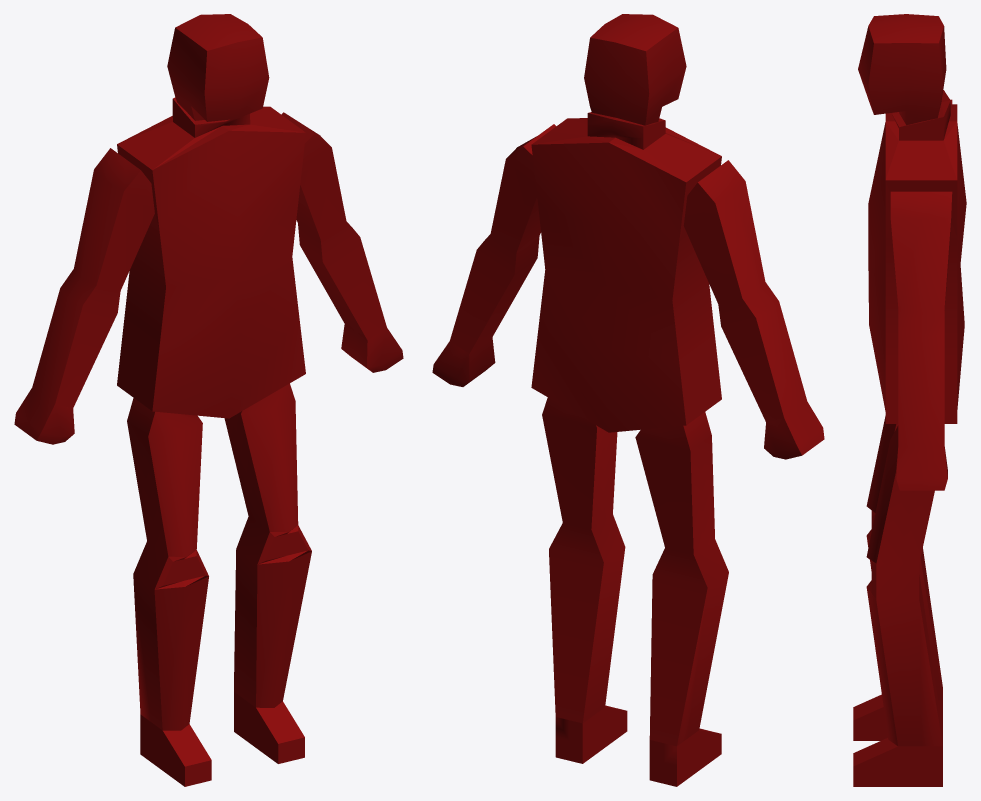
File: Character_NO_ANIMATION.obj
The picture shows the model from 3 angles, left to right: view 1: azimuth 30°, elevation 25°; view 2: azimuth 150°, elevation 25°; view 3: azimuth 270°, elevation 25°; orthographic projection.
Parts seen in each view (by area): view 1: Box010; view 2: Box010; view 3: Box010.
Boxes of the visible parts, box(x1,y1,x2,y2) form: Box010: box(14, 14, 403, 786); Box010: box(432, 14, 824, 786); Box010: box(853, 14, 966, 786).
Size of the model in its own units: 12.31 by 23.33 by 3.26.
